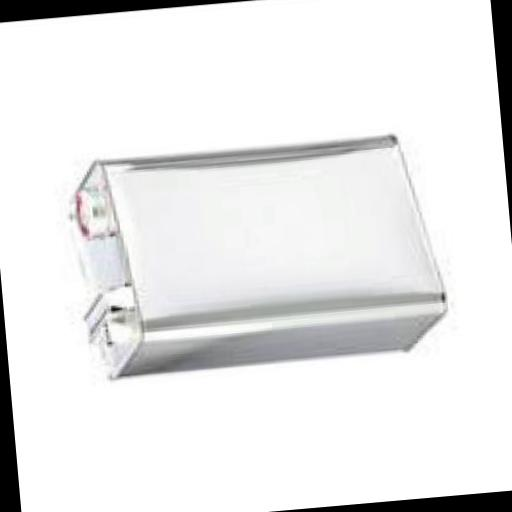metal: (62, 128, 449, 377)
